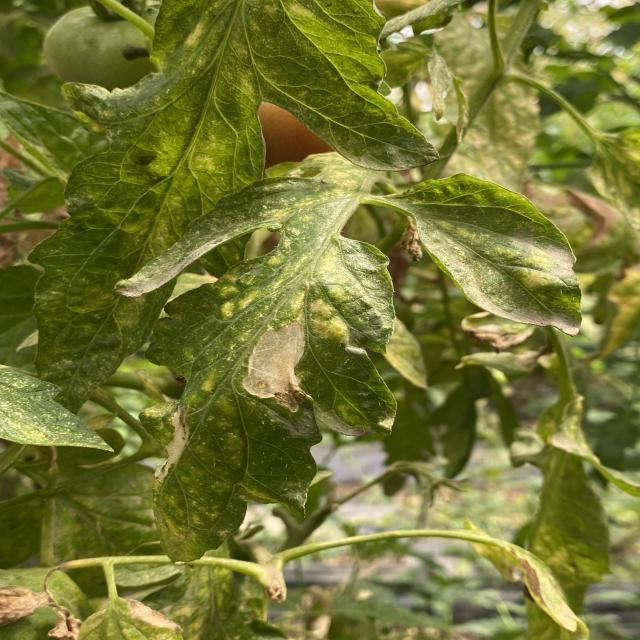Tuta absoluta: (236, 310, 333, 415)
